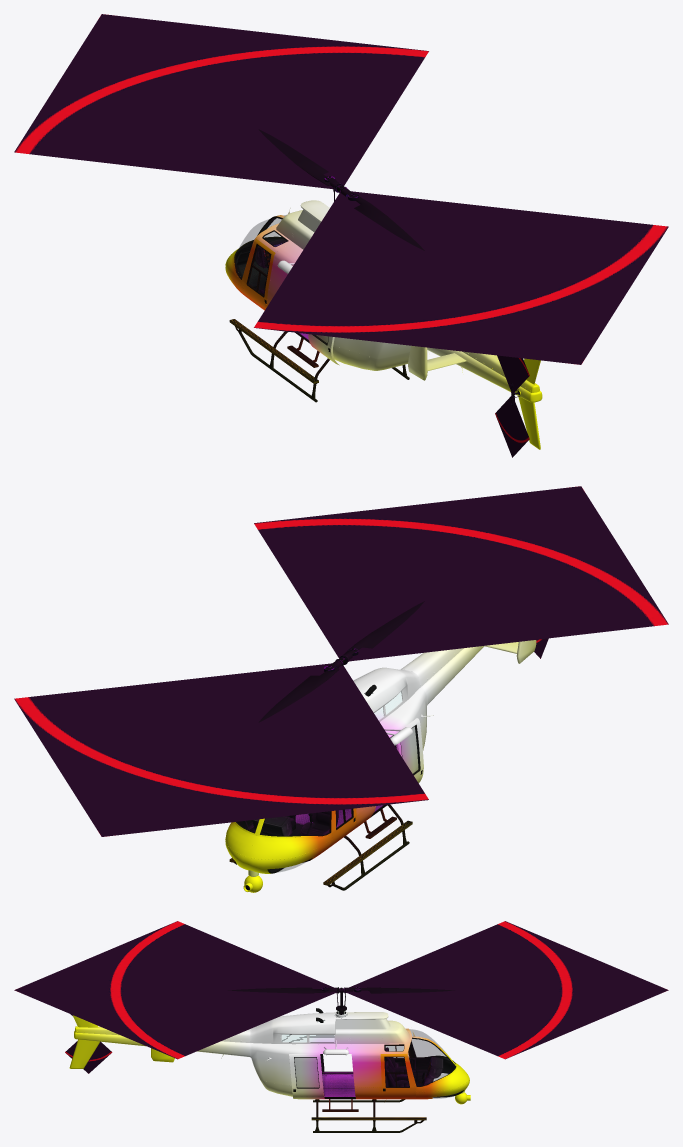
The model's file is maverick.glb.
3 renders of one model, top to bottom at view 1: azimuth 30°, elevation 25°; view 2: azimuth 150°, elevation 25°; view 3: azimuth 270°, elevation 25°, orthographic. The views are drawn at different scales.
Parts seen in each view (by area): view 1: rotor_main_fast, bodyshell, tail, rotor_rear_fast, rotor_main_slow, suspension_lf, chassis, door_dside_f, windscreen; view 2: rotor_main_fast, bodyshell, tail, chassis, rotor_main_slow, windscreen, suspension_lf; view 3: rotor_main_fast, bodyshell, chassis, tail, windscreen_r, door_pside_f, suspension_rf, rotor_main_slow, window_rr, window_rf, rotor_rear_fast.
Part boxes in pixels (x1,y1,x2,y2): rotor_main_fast: [14, 14, 668, 364]; bodyshell: [225, 200, 410, 370]; tail: [408, 345, 542, 449]; rotor_rear_fast: [495, 355, 529, 457]; rotor_main_slow: [258, 129, 424, 250]; suspension_lf: [229, 319, 329, 402]; chassis: [235, 218, 308, 340]; door_dside_f: [242, 239, 275, 310]; windscreen: [236, 217, 281, 277]; rotor_main_fast: [14, 486, 668, 836]; bodyshell: [225, 667, 433, 876]; tail: [400, 640, 536, 703]; chassis: [237, 736, 392, 872]; rotor_main_slow: [258, 601, 424, 722]; windscreen: [261, 812, 330, 835]; suspension_lf: [323, 804, 412, 890]; rotor_main_fast: [14, 921, 668, 1059]; bodyshell: [250, 1008, 469, 1111]; chassis: [320, 1042, 461, 1096]; tail: [69, 1015, 250, 1068]; windscreen_r: [409, 1038, 454, 1085]; door_pside_f: [380, 1054, 415, 1099]; suspension_rf: [311, 1099, 426, 1132]; rotor_main_slow: [228, 987, 454, 993]; window_rr: [295, 1058, 318, 1087]; window_rf: [385, 1057, 408, 1086]; rotor_rear_fast: [65, 1014, 112, 1073].
Size of the model in its own units: 9.66 by 4.24 by 19.31.
Materials: 10 (10 with a texture image).
